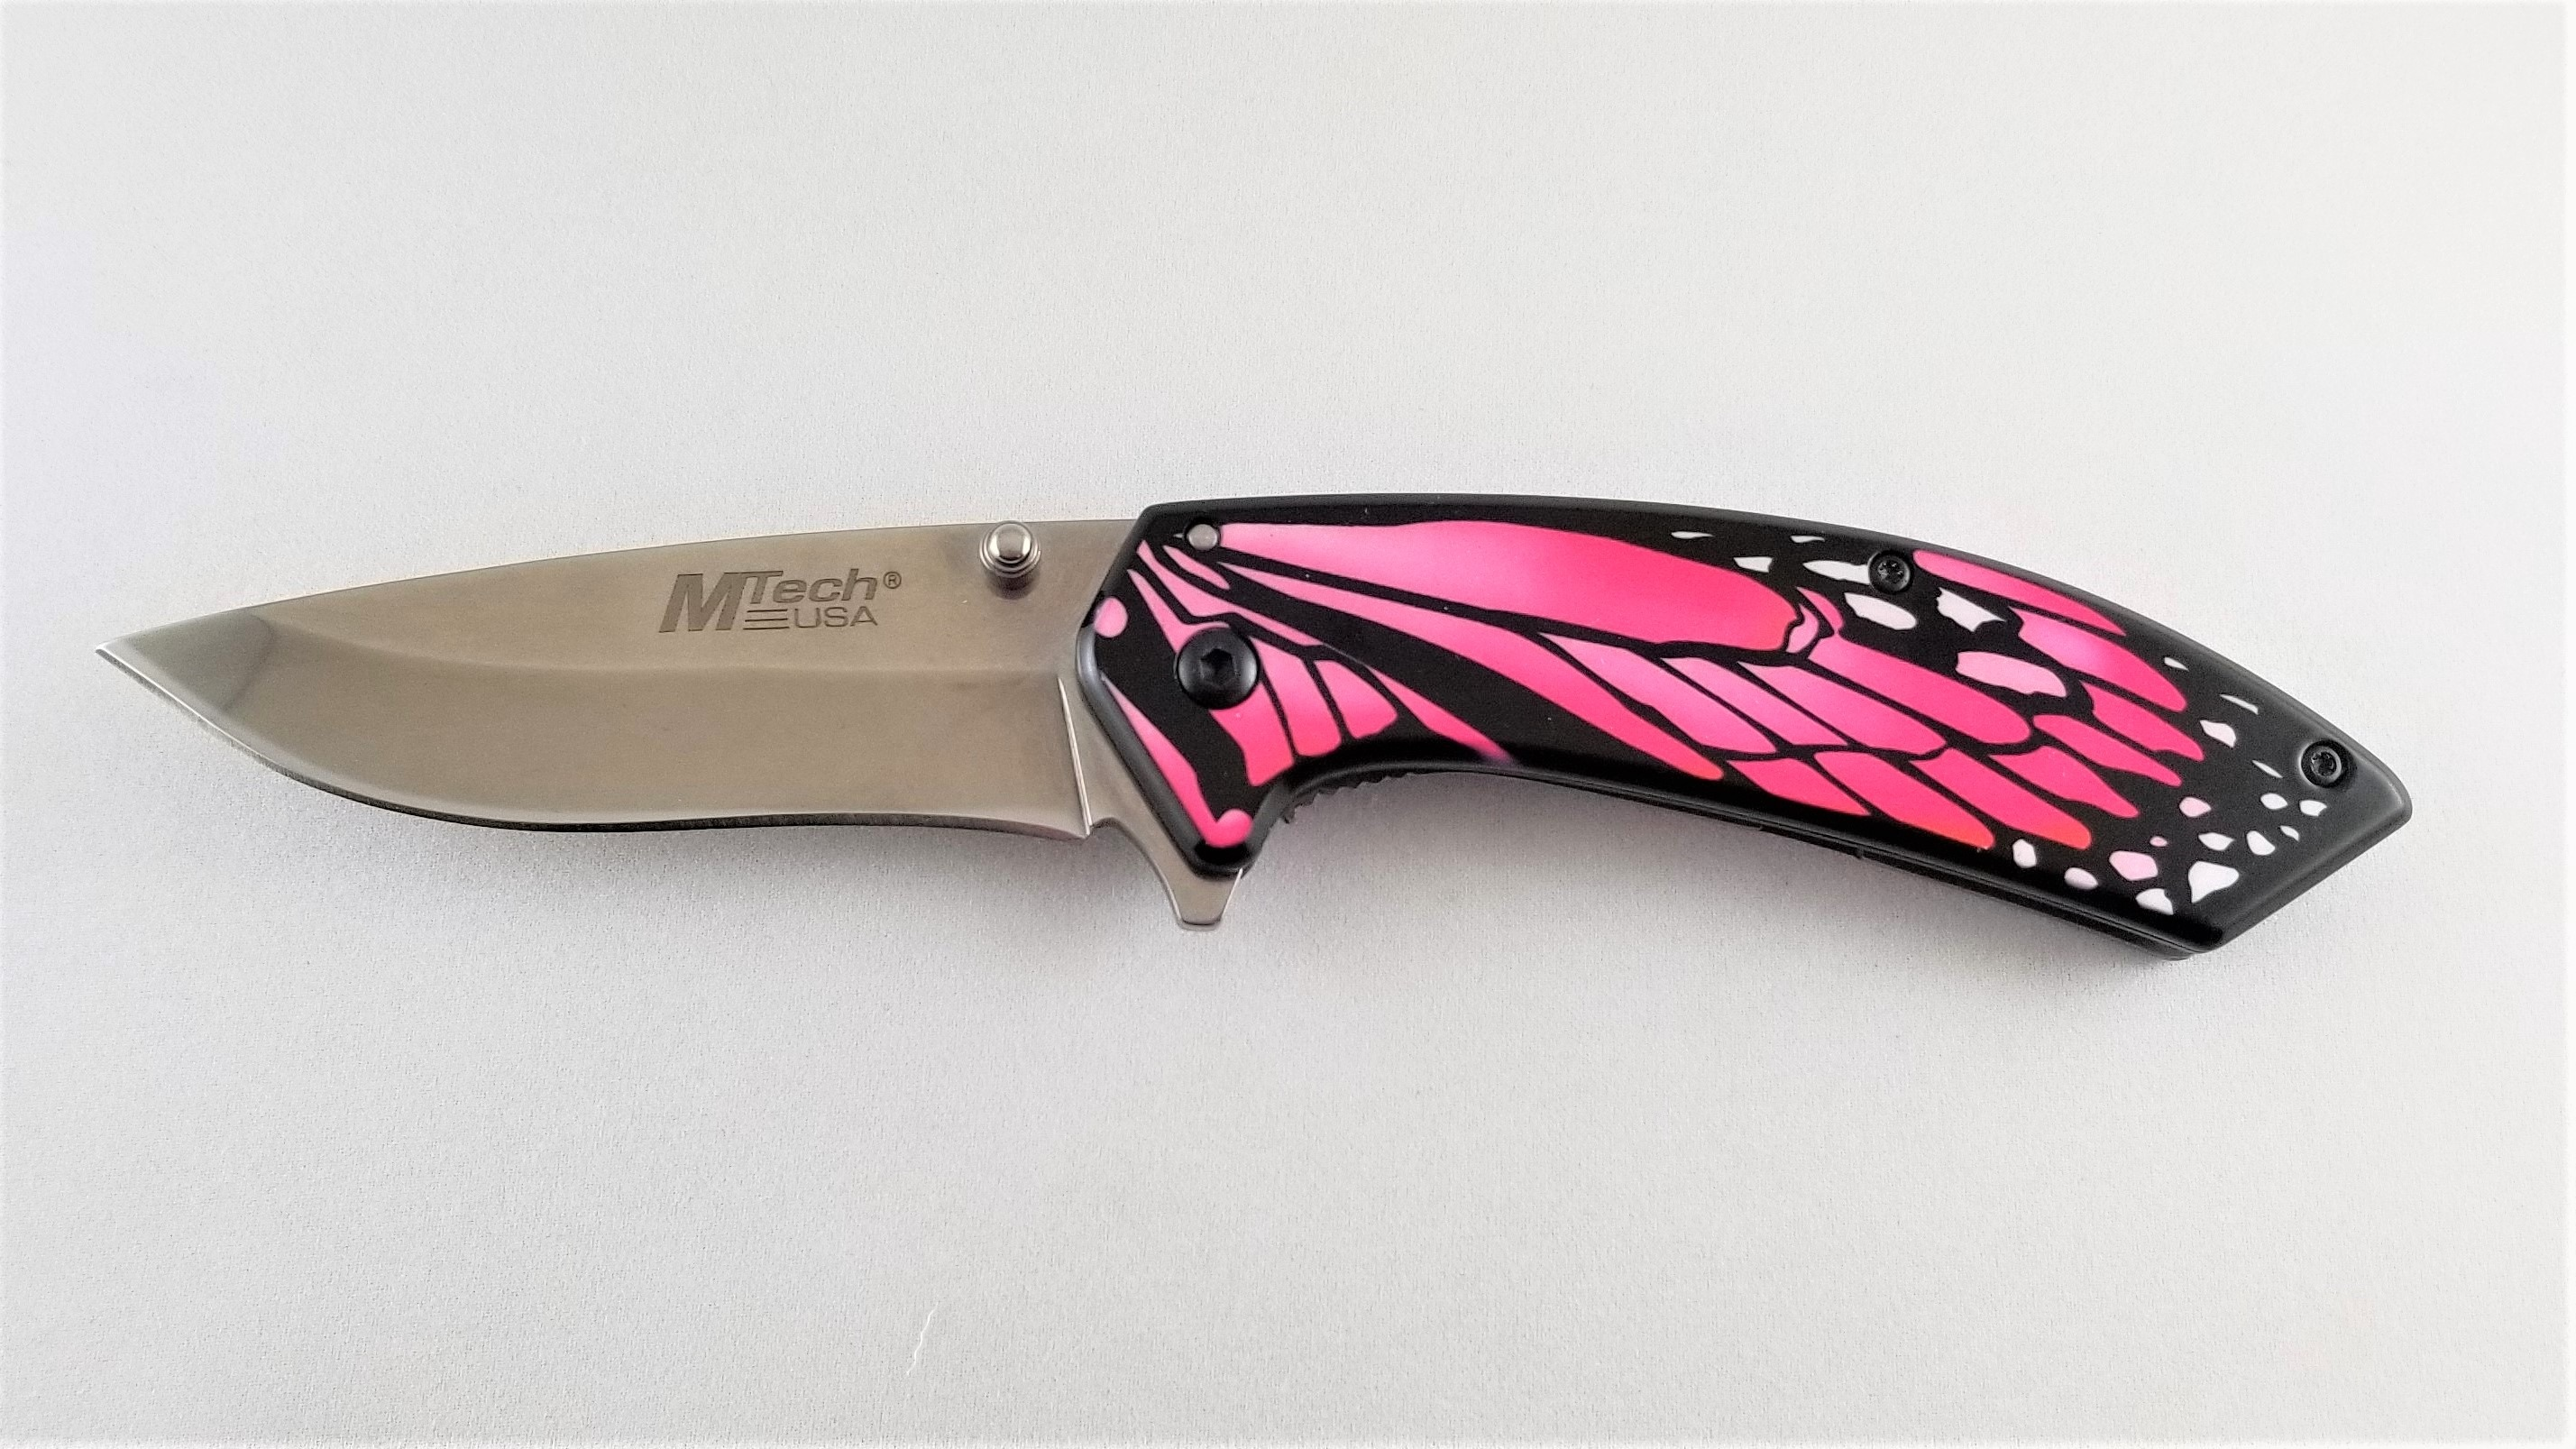knife: (83, 462, 2429, 1010)
